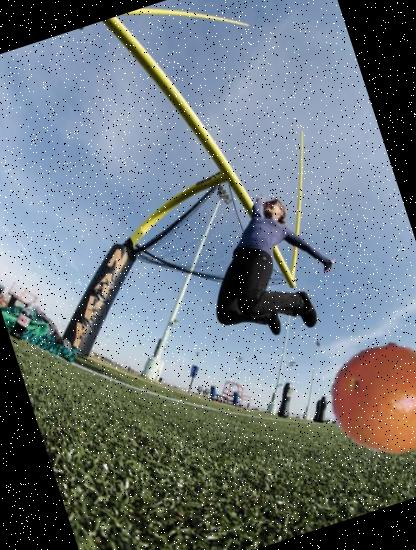Tangelo: (314, 321, 416, 472)
